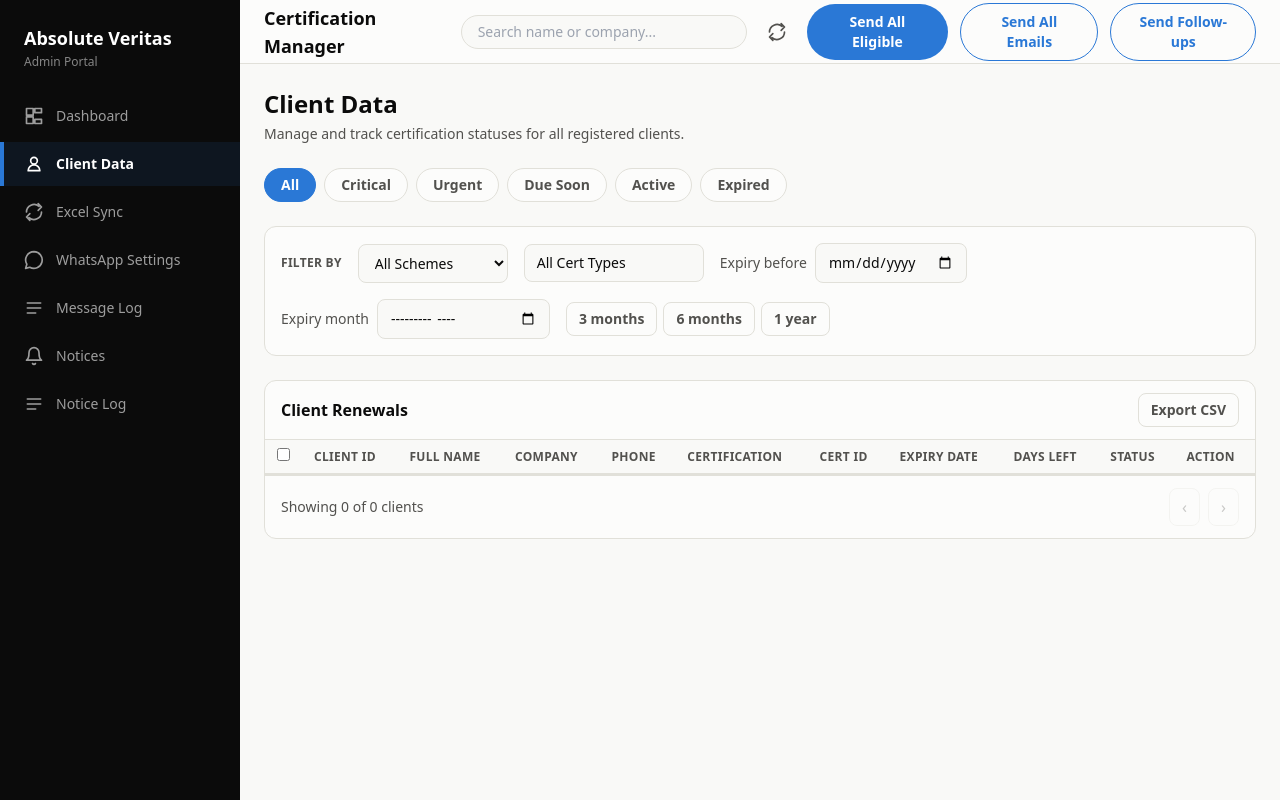
App follow-ups › starts the job on confirm and polls its status until done
The image size is (1280, 800).
Step 1. Click the button "Send Follow-ups" → (1183, 32), box [1110,2,1256,60]
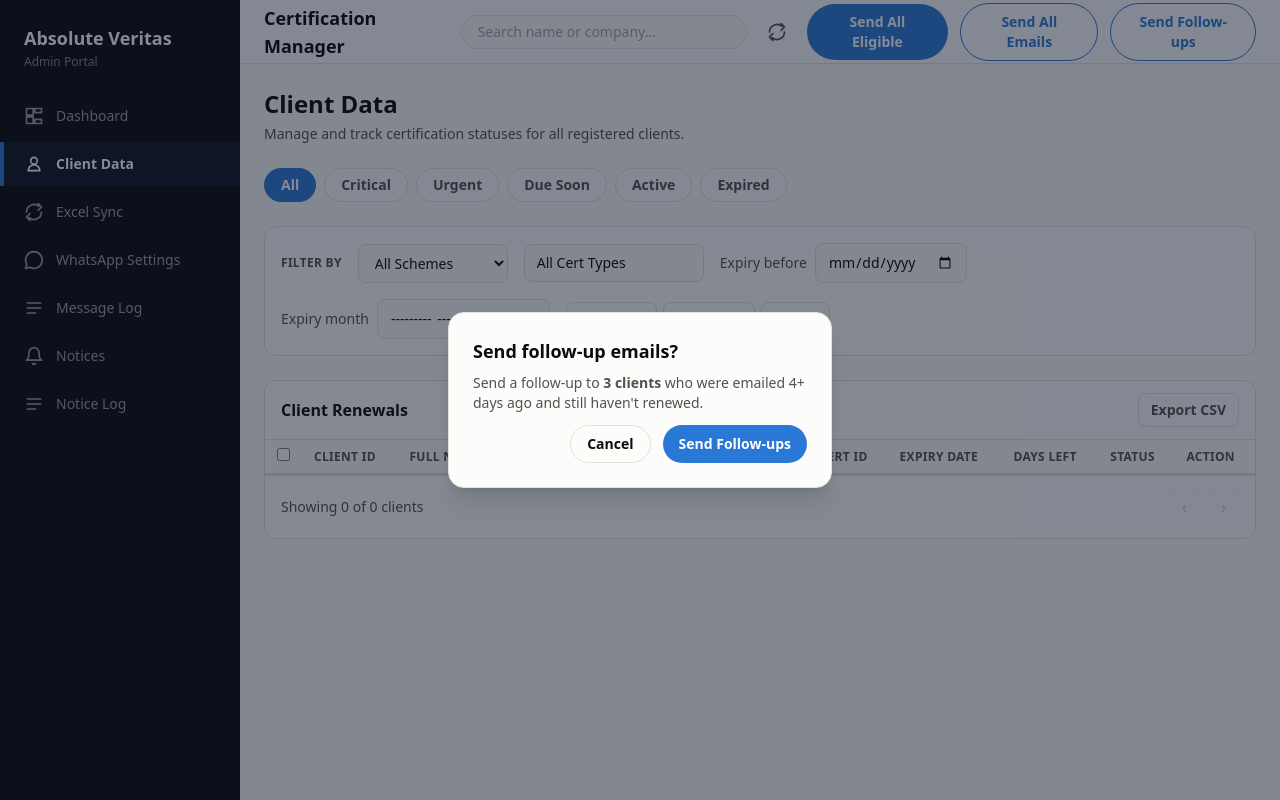
Step 2. Click the button "Send Follow-ups" → (735, 444), box [662,425,807,463]
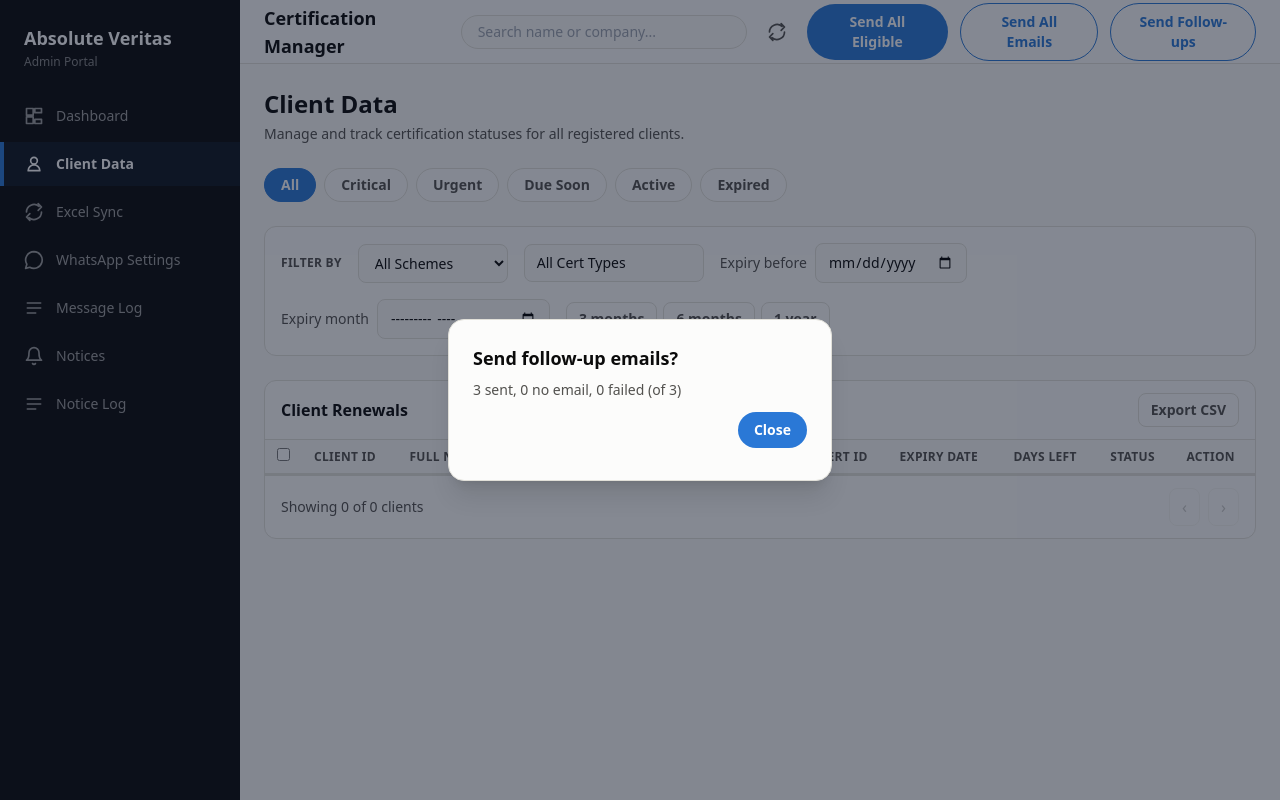
Result: the text "3 sent, 0 no email, 0 failed (of 3)" is shown at [473,380,681,399]
